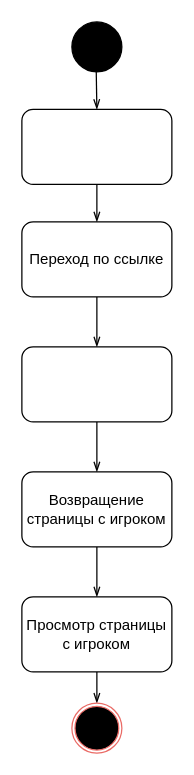
This 194x775 diagram has some shape labels left out. Each missing label, with the box of its shape:
Выбор игрока: (21, 108, 172, 184)
Запрос в базу: (21, 346, 172, 422)
